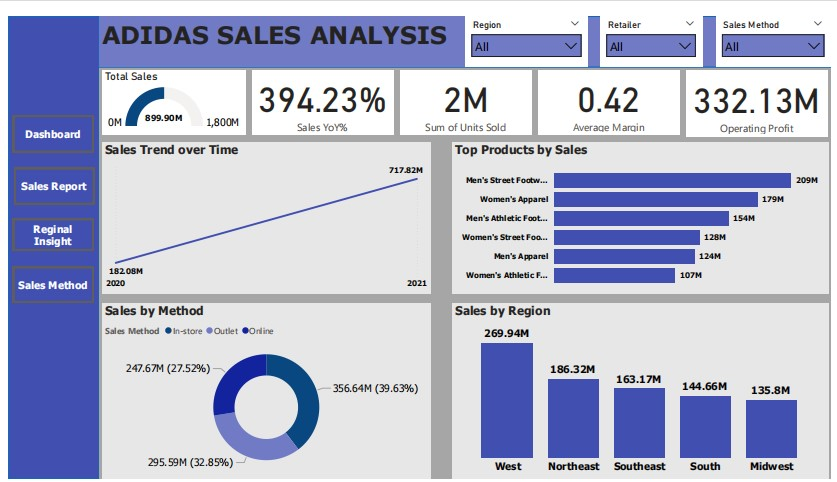

What the dashboard file says about the page in this screenshot:
{"tool":"powerbi","page":{"name":"Dashboard","canvas":[1280,720],"ordinal":0},"visuals":[{"type":"shape","box":[141.1,0,1138.8,79.3],"z":0},{"type":"card","title":" Sales YoY%","fields":{"Values":["Calender.Sum of Total Sales YoY%"]},"box":[379.4,84.1,220.3,100],"z":1000},{"type":"donutChart","title":" Sales by Method","fields":{"Category":["Data Sales Adidas.Sales Method"],"Y":["Sum(Data Sales Adidas.Total Sales)"]},"box":[146.4,446.5,510.3,274],"z":2000},{"type":"shape","box":[0,0,140.6,720.5],"z":3000},{"type":"gauge","fields":{"Y":["Sum(Data Sales Adidas.Total Sales)"]},"box":[146.4,83.4,223.6,100.8],"z":4000},{"type":"actionButton","box":[7.2,153.7,126.1,58],"z":5000},{"type":"textbox","box":[141.1,0,570.1,79.3],"z":6000},{"type":"actionButton","box":[7.2,314.6,126.1,50.7],"z":7000},{"type":"card","fields":{"Values":["Avg(Data Sales Adidas.Operating Margin)"]},"box":[825.2,84.1,220.3,100],"z":8000},{"type":"slicer","fields":{"Values":["Location.Region"]},"box":[711.2,0,191,79.3],"z":9000},{"type":"card","fields":{"Values":["Sum(Data Sales Adidas.Units Sold)"]},"box":[609.6,84.1,205.8,100],"z":10000},{"type":"lineChart","title":" Sales Trend over Time","fields":{"Y":["Sum(Data Sales Adidas.Total Sales)"],"Category":["Calender.Invoice Date.Variation.Date Hierarchy.Year","Calender.Invoice Date.Variation.Date Hierarchy.Quarter","Calender.Invoice Date.Variation.Date Hierarchy.Month","Calender.Invoice Date.Variation.Date Hierarchy.Day"]},"box":[146.4,195.7,510.3,236.3],"z":11000},{"type":"actionButton","box":[7.2,389.9,126.1,56.5],"z":12000},{"type":"slicer","fields":{"Values":["Data Sales Adidas.Retailer"]},"box":[921.3,0,158.7,79.3],"z":13000},{"type":"clusteredBarChart","title":"Top Products by Sales ","fields":{"Category":["Data Sales Adidas.Product"],"Y":["Sum(Data Sales Adidas.Total Sales)"]},"box":[691.5,195.7,584.2,236.3],"z":14000},{"type":"slicer","fields":{"Values":["Data Sales Adidas.Sales Method"]},"box":[1100.6,0,179.3,79.3],"z":15000},{"type":"clusteredColumnChart","title":"Sales by Region","fields":{"Category":["Location.Region"],"Y":["Sum(Data Sales Adidas.Total Sales)"]},"box":[691.5,446.5,584.2,274],"z":16000},{"type":"card","fields":{"Values":["Sum(Data Sales Adidas.Operating Profit)"]},"box":[1055.3,82.6,220.3,104.4],"z":17000},{"type":"actionButton","box":[9.4,236.2,124.4,56.7],"z":18000}]}

Visuals, with their boxes in screenshot pixels (x1, y1, x2, y2), scaled from the page's 1280x720 canvas onto the 837x482 screenshot:
shape: [left=92, top=0, right=836, bottom=53]
" Sales YoY%" card: [left=248, top=56, right=392, bottom=123]
" Sales by Method" donutChart: [left=96, top=299, right=429, bottom=481]
shape: [left=0, top=0, right=92, bottom=481]
gauge - Sum(Data Sales Adidas.Total Sales): [left=96, top=56, right=242, bottom=123]
actionButton: [left=5, top=103, right=87, bottom=142]
textbox: [left=92, top=0, right=465, bottom=53]
actionButton: [left=5, top=211, right=87, bottom=245]
card - Avg(Data Sales Adidas.Operating Margin): [left=540, top=56, right=684, bottom=123]
slicer - Location.Region: [left=465, top=0, right=590, bottom=53]
card - Sum(Data Sales Adidas.Units Sold): [left=399, top=56, right=533, bottom=123]
" Sales Trend over Time" lineChart: [left=96, top=131, right=429, bottom=289]
actionButton: [left=5, top=261, right=87, bottom=299]
slicer - Data Sales Adidas.Retailer: [left=602, top=0, right=706, bottom=53]
"Top Products by Sales " clusteredBarChart: [left=452, top=131, right=834, bottom=289]
slicer - Data Sales Adidas.Sales Method: [left=720, top=0, right=836, bottom=53]
"Sales by Region" clusteredColumnChart: [left=452, top=299, right=834, bottom=481]
card - Sum(Data Sales Adidas.Operating Profit): [left=690, top=55, right=834, bottom=125]
actionButton: [left=6, top=158, right=87, bottom=196]
